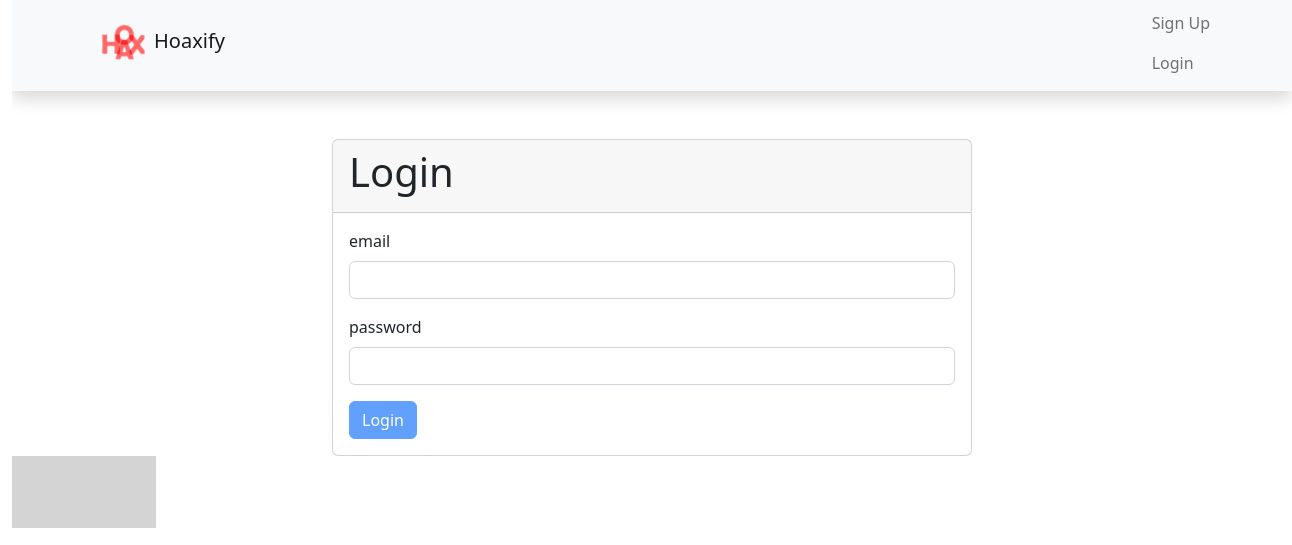
Scenario: Routing › displays home page when click to the logo
The width and height of the screenshot is (1292, 545).
Click the picture with alt text "Hoaxify" at (124, 43), box [94,23,154,63]
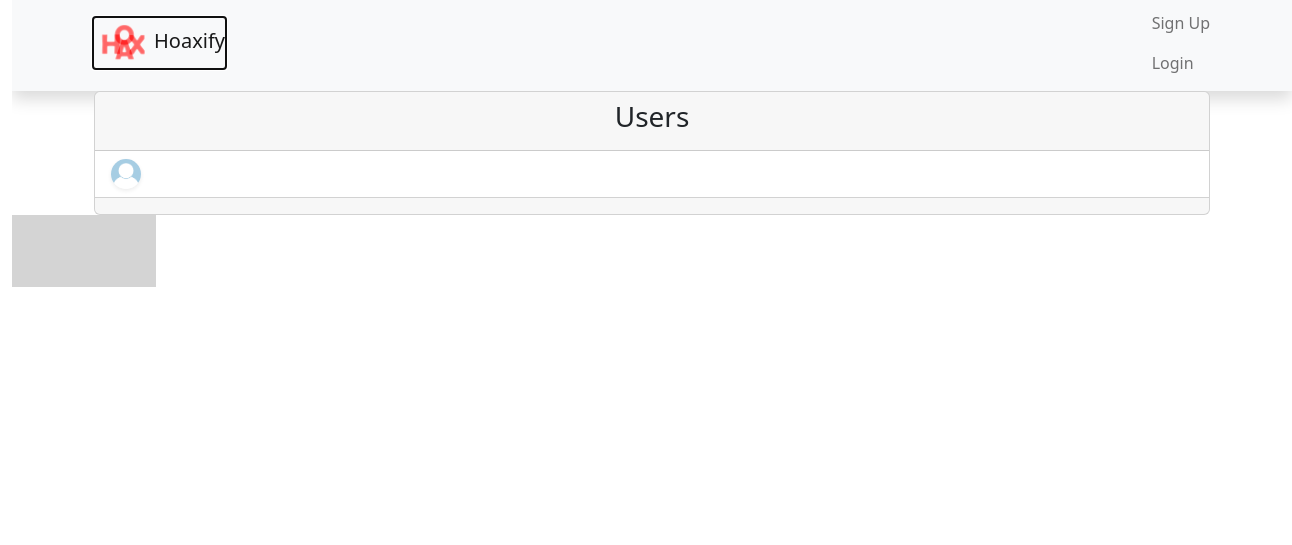
Check: the element with test id "home-page" is shown, box [82,91,1222,215]
